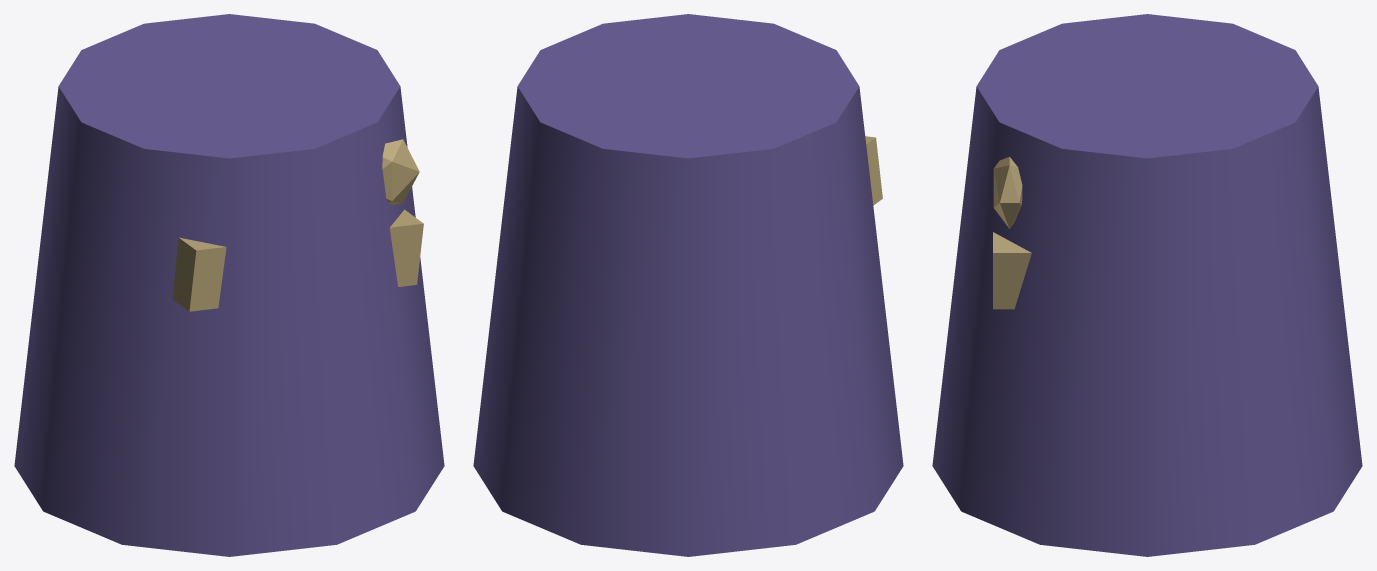
File: chief_outfit.glb
The picture shows the model from 3 angles, left to right: view 1: azimuth 30°, elevation 25°; view 2: azimuth 150°, elevation 25°; view 3: azimuth 270°, elevation 25°; orthographic projection.
Visible parts, largest first — view 1: outfit_torso, outfit_trim, outfit_badge; view 2: outfit_torso, outfit_trim; view 3: outfit_torso, outfit_trim, outfit_badge.
Boxes of the visible parts, bbox=[...] form: outfit_torso: bbox=[14, 14, 444, 556]; outfit_trim: bbox=[172, 209, 423, 311]; outfit_badge: bbox=[382, 139, 419, 204]; outfit_torso: bbox=[473, 14, 903, 556]; outfit_trim: bbox=[865, 136, 882, 205]; outfit_torso: bbox=[932, 14, 1362, 556]; outfit_trim: bbox=[993, 232, 1031, 309]; outfit_badge: bbox=[993, 157, 1022, 228].
Bounding box in the file's own units: 0.78 × 0.76 × 0.78.
